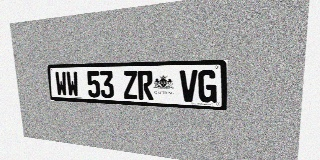3: (99, 71, 114, 98)
5: (87, 71, 101, 98)
G: (198, 70, 217, 103)
R: (137, 70, 153, 100)
V: (180, 70, 197, 102)
W: (66, 71, 79, 97), (55, 71, 68, 96)
Z: (122, 71, 138, 99)
